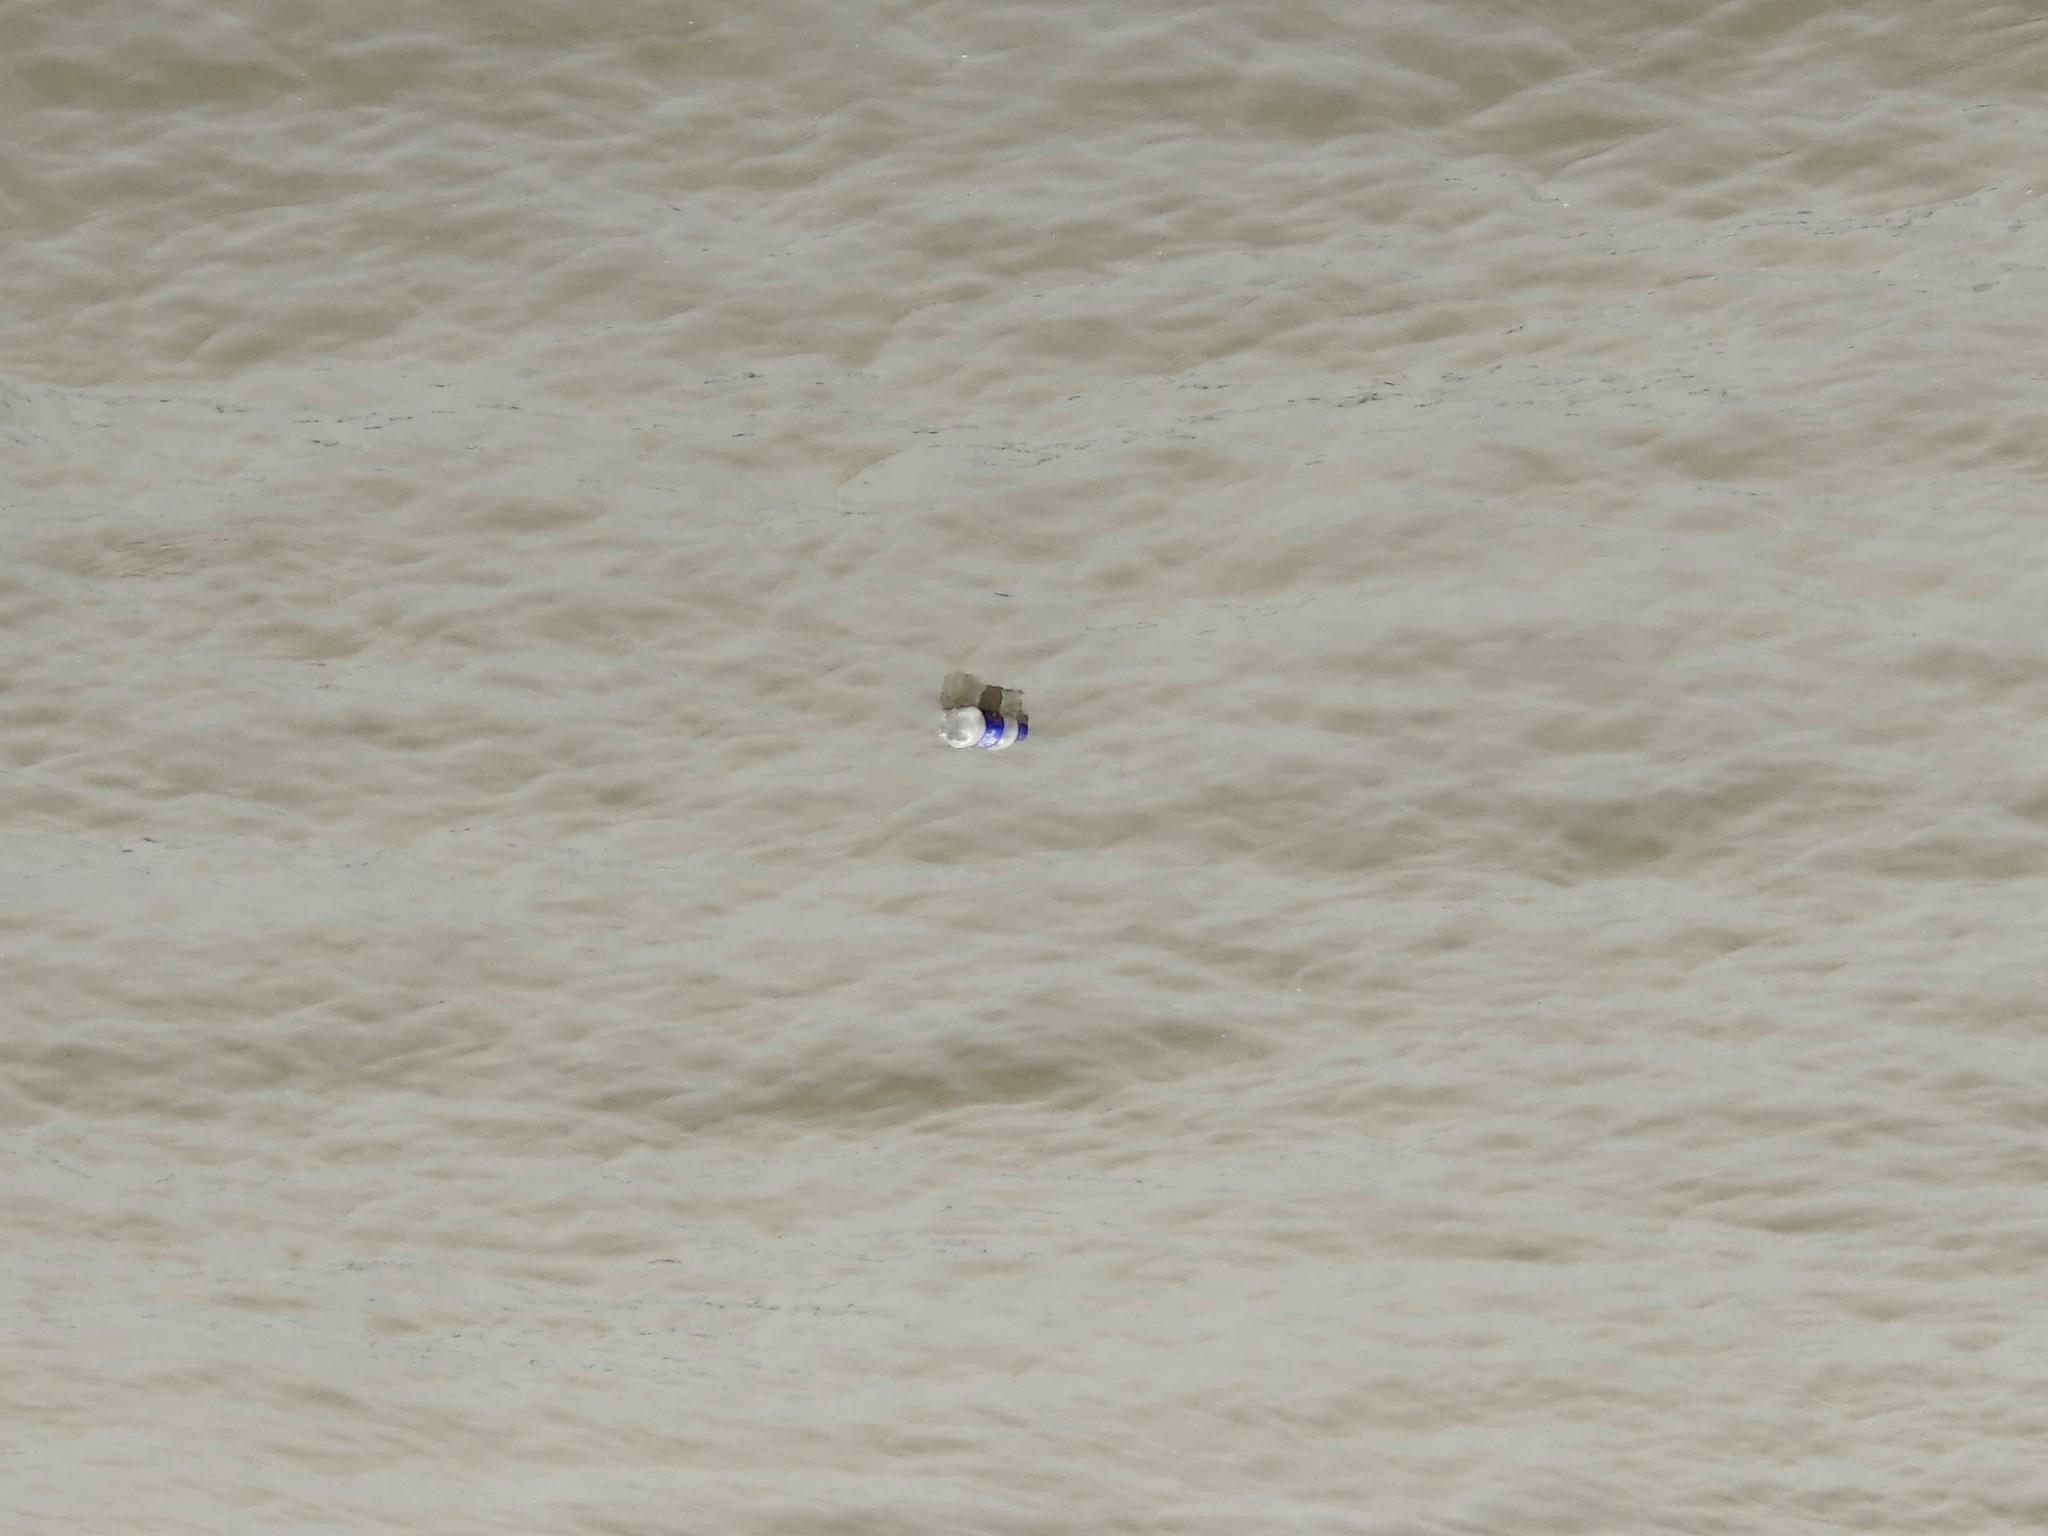Plastic: (928, 700, 1036, 760)
